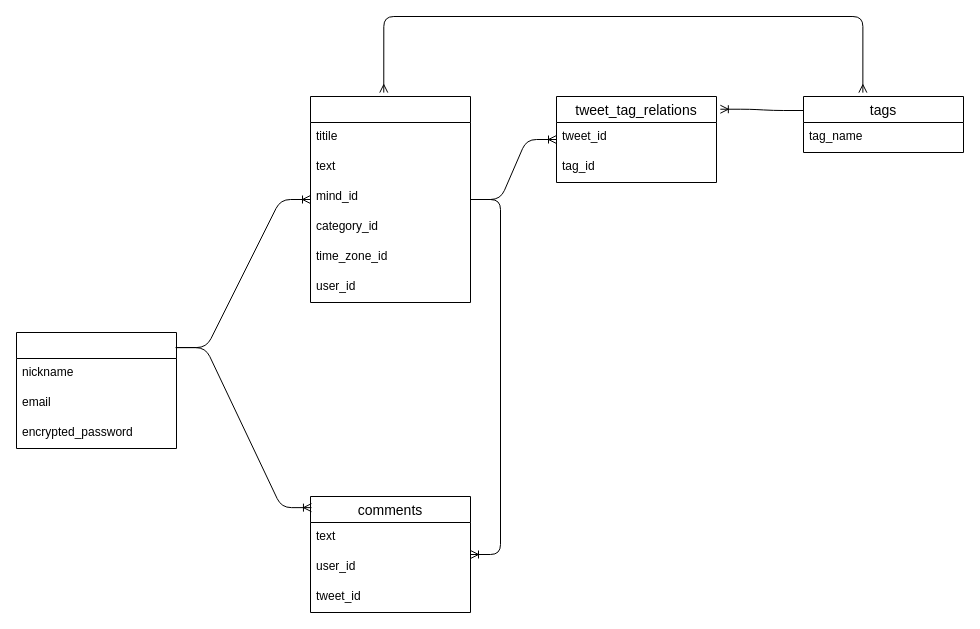
Some shapes in this 980 by 629 pixel diagram are drawn without their labels. Here are the shapes that lost their labels. From the top down, the box of each, then its label:
(310, 96, 470, 302): tweets
(16, 332, 176, 448): users
